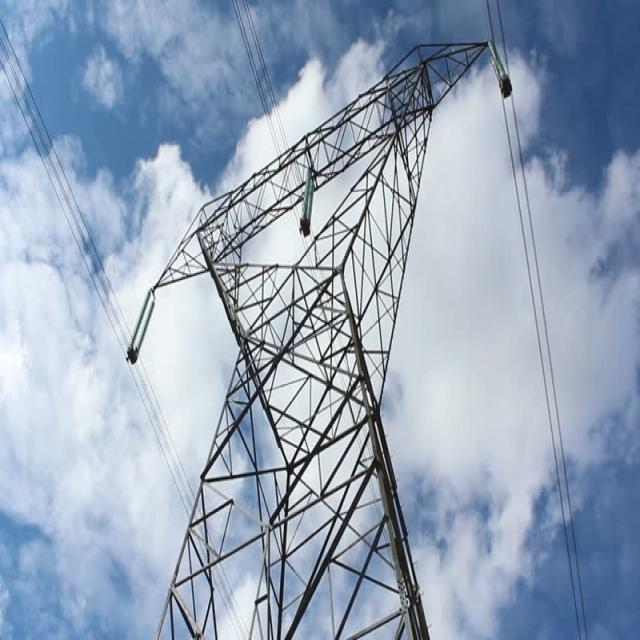non-critical vegetation: (120, 54, 475, 632)
